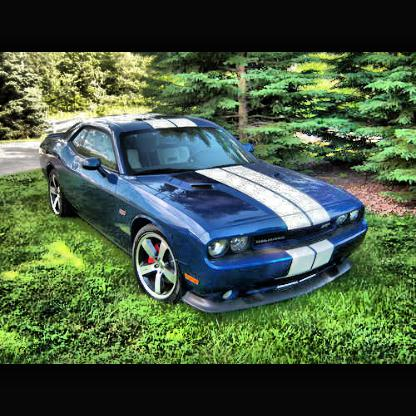Dodge Challenger SRT8 2011: (40, 113, 370, 316)
